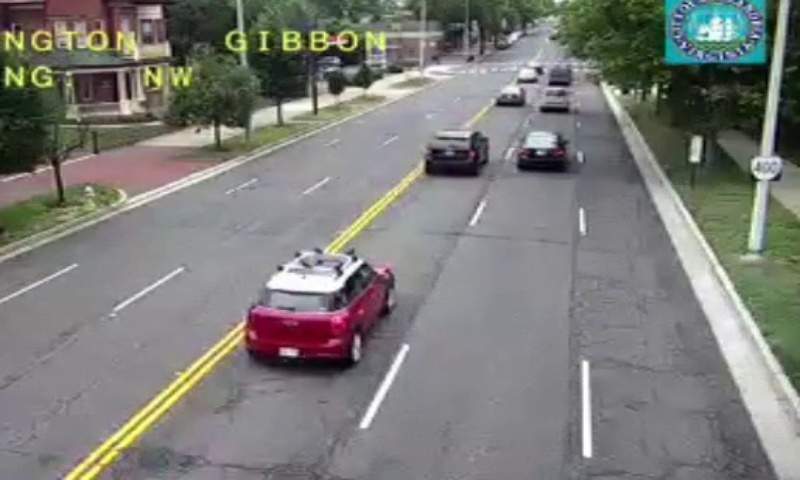car: (244, 249, 393, 362), (423, 130, 488, 168), (518, 131, 564, 165), (538, 87, 571, 109)
